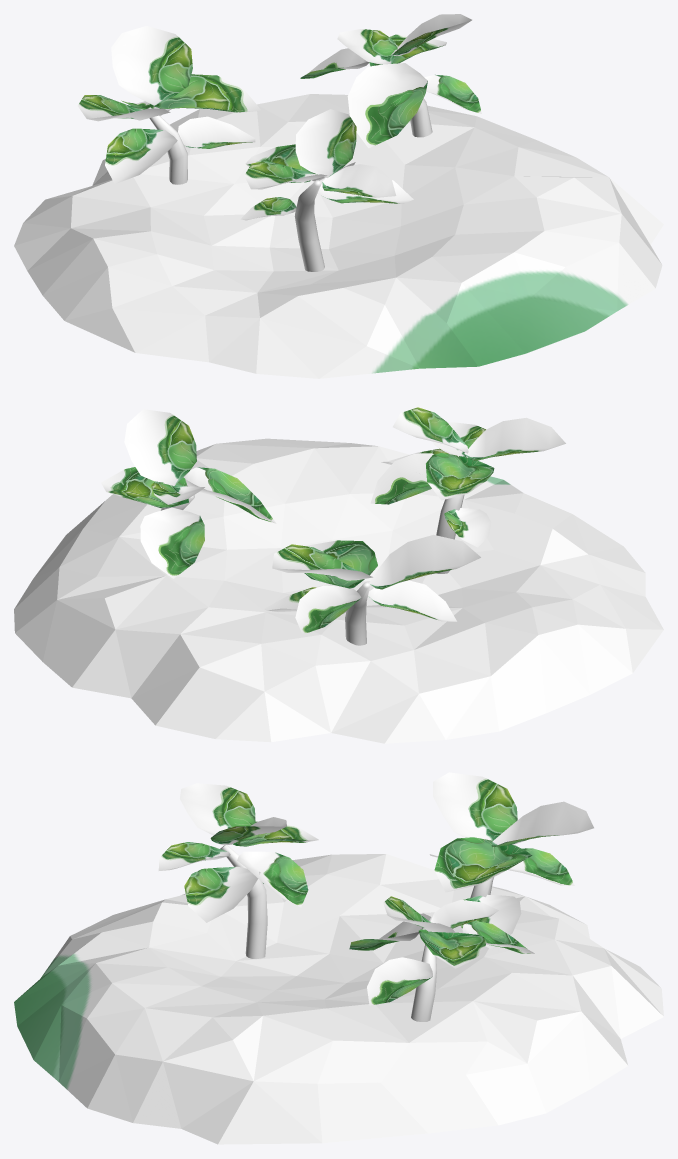
Rendered from Cabbage2.fbx.
The picture shows the model from 3 angles, top to bottom: view 1: azimuth 30°, elevation 25°; view 2: azimuth 150°, elevation 25°; view 3: azimuth 270°, elevation 25°; orthographic projection. The views are drawn at different scales.
Parts seen in each view (by area): view 1: 2; view 2: 2; view 3: 2.
Part boxes in pixels (bbox=[...]): 2: bbox=[14, 14, 663, 378]; 2: bbox=[14, 407, 663, 743]; 2: bbox=[14, 772, 663, 1144].
Bounding box in the file's own units: 189 × 56.33 × 189.
